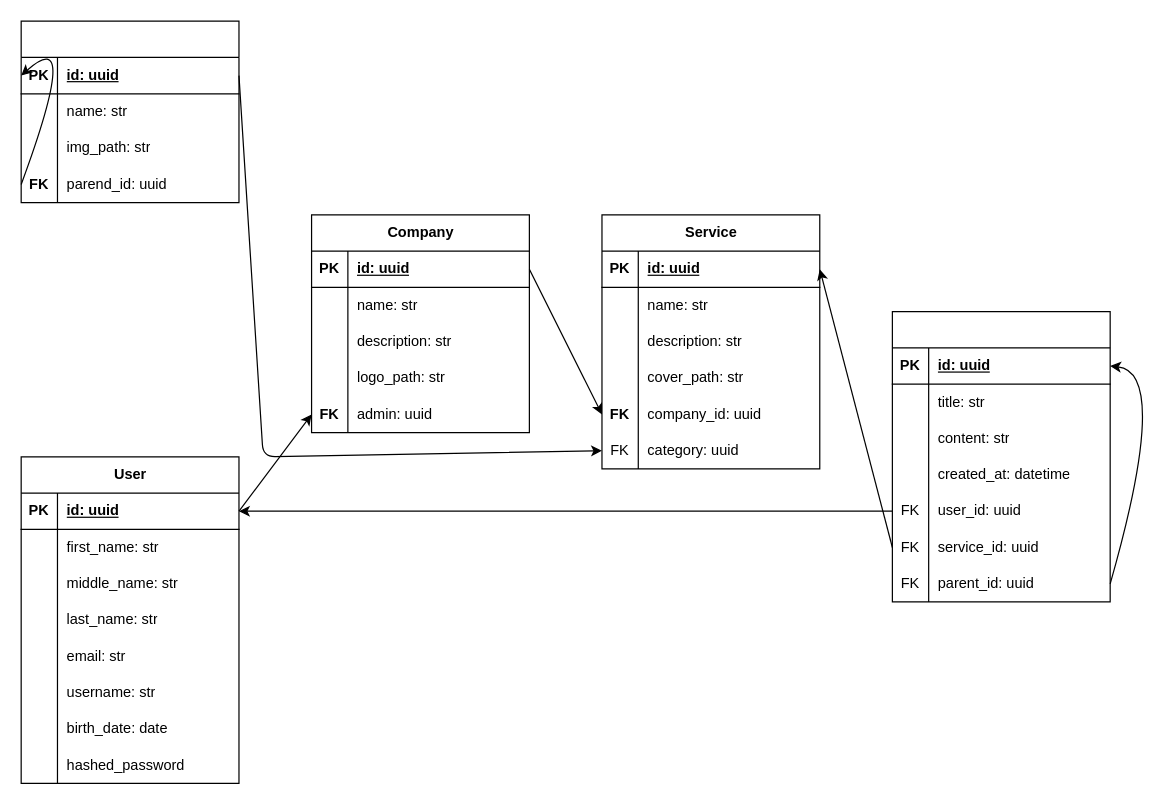
This 1164x805 diagram has some shape labels left out. The box of each missing label's shape, as (x1, y1, x2, y2) in pixels:
Category: (20, 20, 239, 203)
Comment: (891, 310, 1110, 602)
